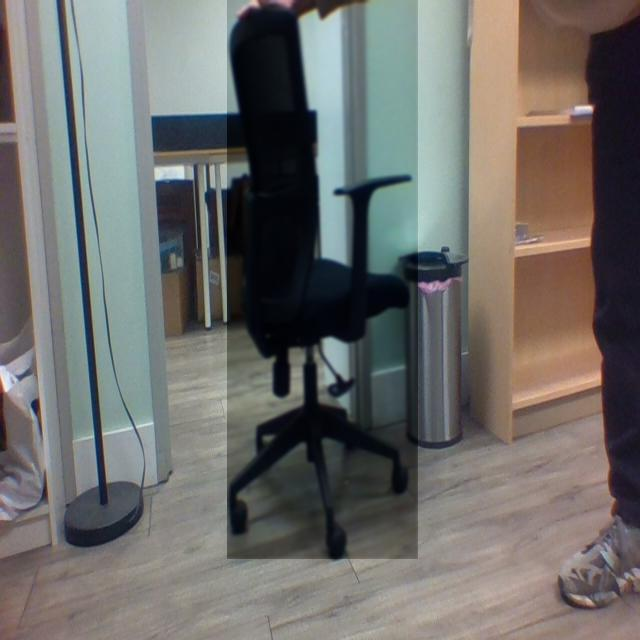black-chair: (227, 0, 419, 560)
